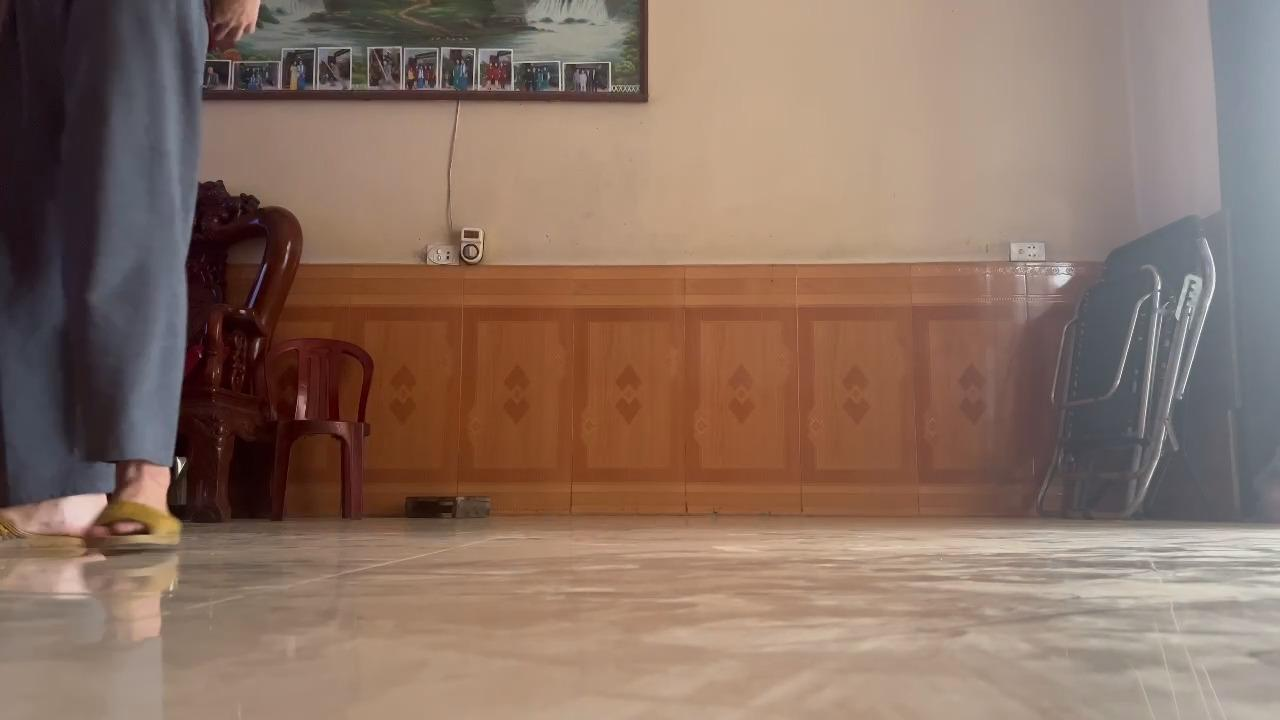no-boot: (77, 489, 197, 553), (0, 496, 98, 550)
